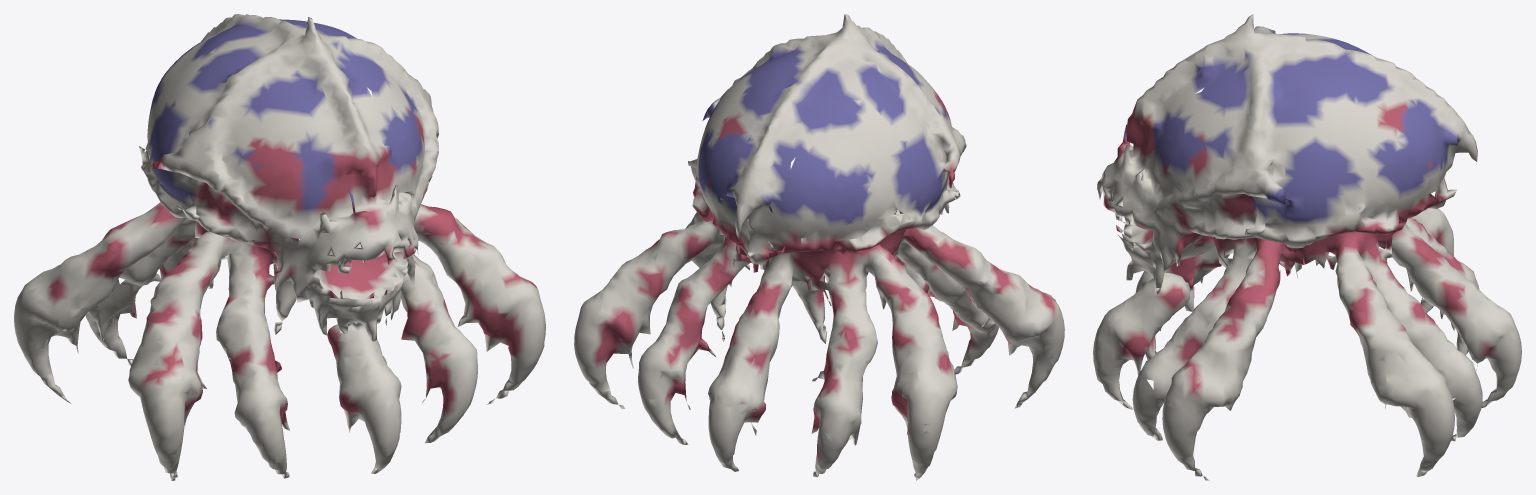
Rendered from mon3d_lo.glb.
3 renders of one model, left to right at view 1: azimuth 30°, elevation 25°; view 2: azimuth 150°, elevation 25°; view 3: azimuth 270°, elevation 25°, orthographic. The views are drawn at different scales.
Bounding box in the file's own units: 1.94 × 1.93 × 1.89.
